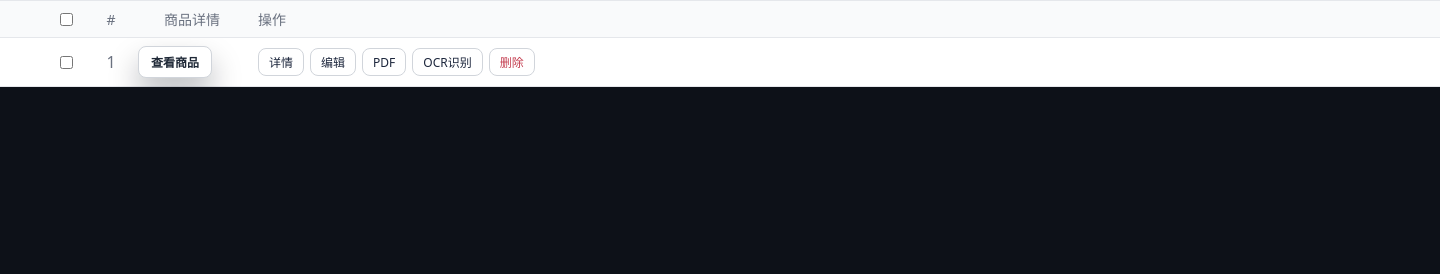
WorkspaceTable › reuses expandable long-string behavior inside product table cells
The width and height of the screenshot is (1440, 274).
Click the button "查看商品".
click(175, 62)  # box [138,46,212,78]
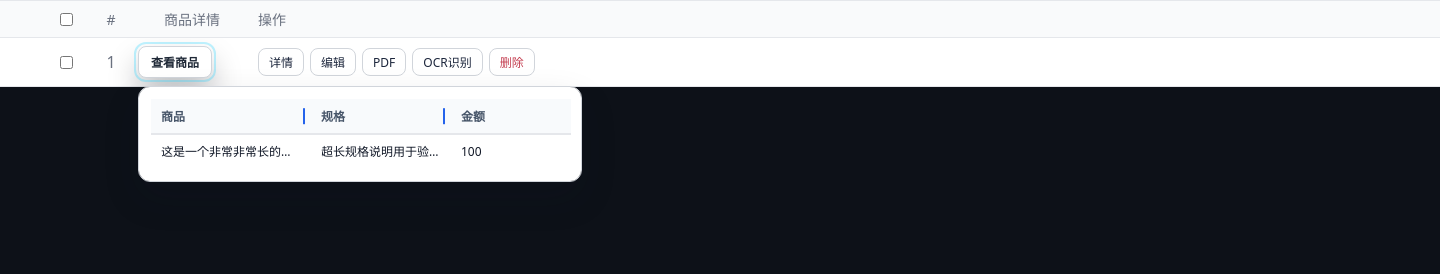
Check: the button with aria-label "这是一个非常非常长的商品名称用于验证商品菜单单元格的截断和展开逻辑" is shown
Click the button with aria-label "这是一个非常非常长的商品名称用于验证商品菜单单元格的截断和展开逻辑".
click(231, 152)  # box [161,143,301,161]
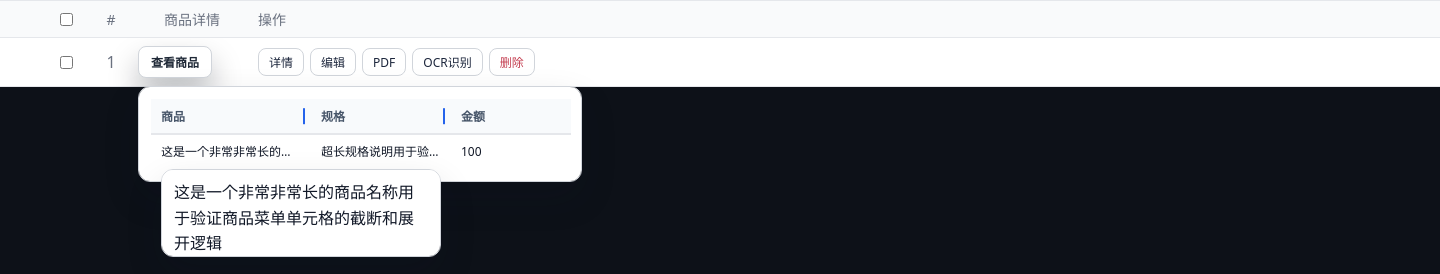
Check: the cell "100" is shown, box [461,143,482,160]
Check: the text box named "商品详情" holds "这是一个非常非常长的商品名称用于验证商品菜单单元格的截断和展开逻辑", box [161,169,441,257]
